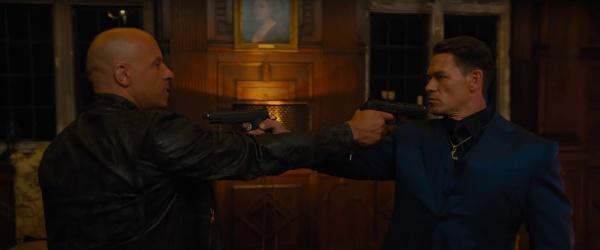Gun: (362, 98, 427, 125), (203, 107, 270, 132)
